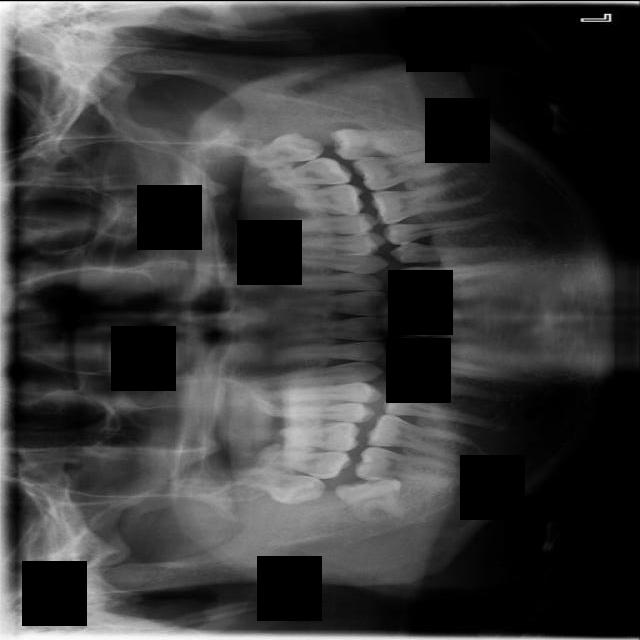3M ESPE Implant: (221, 461, 326, 509)
73: (620, 10, 624, 16)
BioHorizons Implant: (241, 155, 353, 189)
BioLife Implant: (239, 128, 324, 169)
Biomet 3i Implant: (329, 127, 430, 159)
Blue Sky Bio Implant: (350, 143, 462, 193)
Caries: (246, 450, 352, 478)
Implant: (354, 444, 459, 487)
Keystone Dental Implant: (334, 472, 405, 526)
